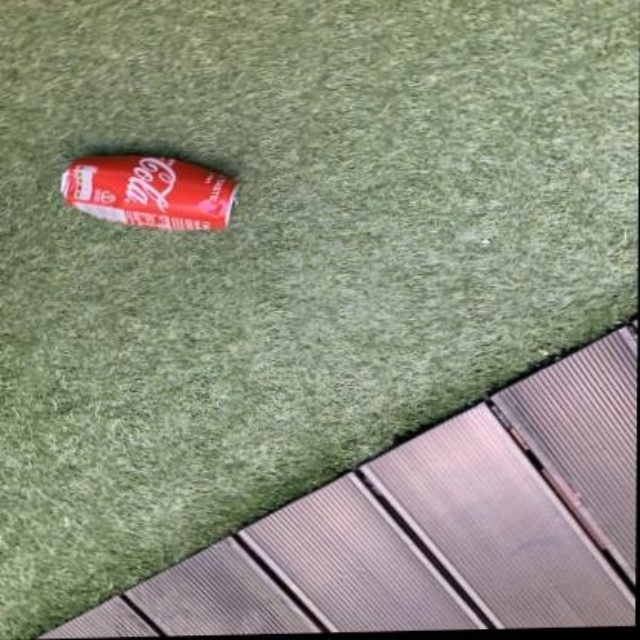trash: (60, 154, 237, 229)
